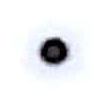cancer: (21, 22, 88, 83)
